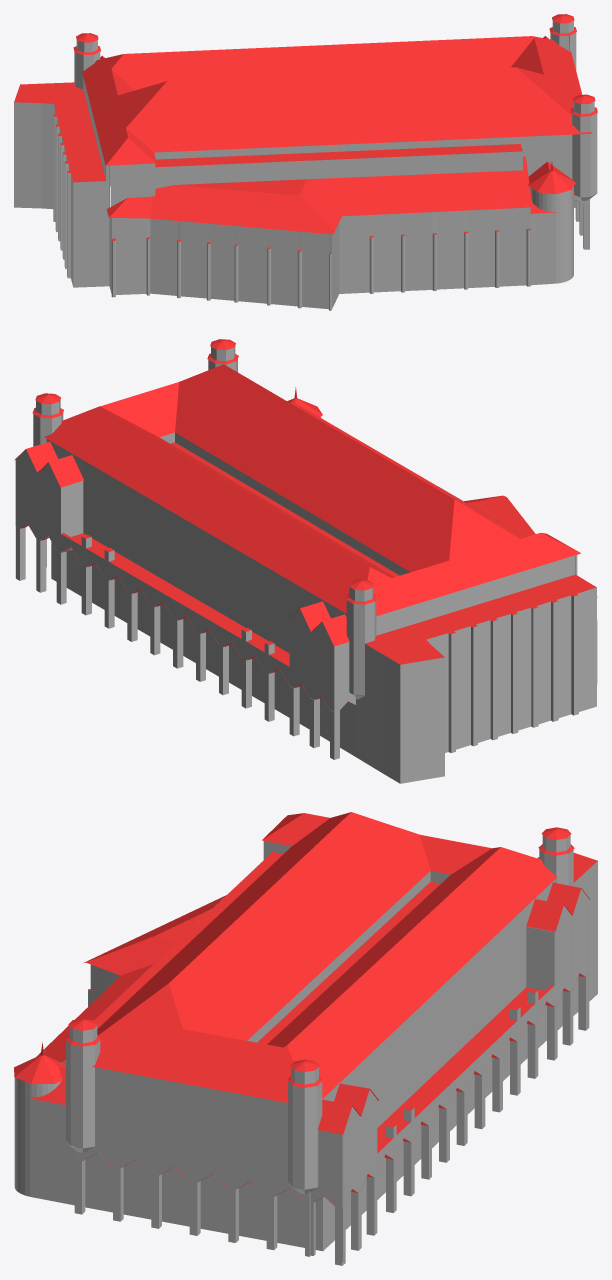
The model's file is DEBW522AA00004219.dae.
3 renders of one model, top to bottom at view 1: azimuth 30°, elevation 25°; view 2: azimuth 150°, elevation 25°; view 3: azimuth 270°, elevation 25°, orthographic. The views are drawn at different scales.
Bounding box in the file's own units: 93.15 × 74.13 × 29.75.
